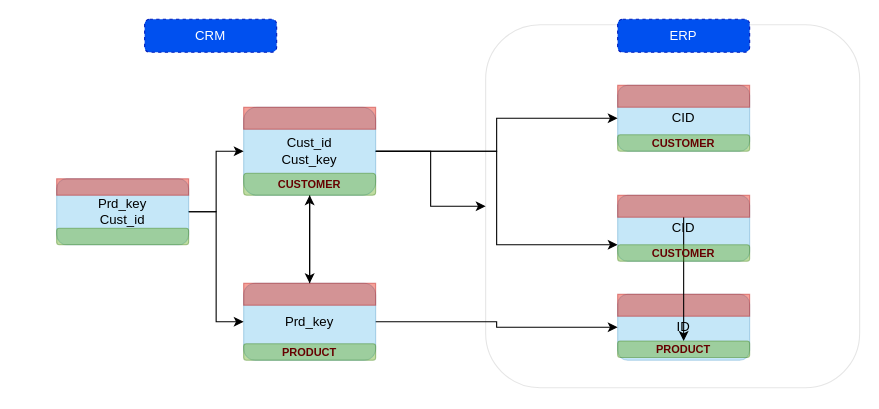
Image size: 879x409. Some labels were removed from this diagram. The shapes that lost their labels are listed below. From the top down, each one's centre as x and y in pixels, then its label:
[683,95]: erp_cust_az12
[309,117]: CRM_CUST_INFO
[122,186]: CRM_SALES_DETAILS
[683,205]: erp_loc_a101
[122,236]: SALES
[309,293]: CRM_PRO D_INFO
[683,304]: erp_px_cat_g1v2
